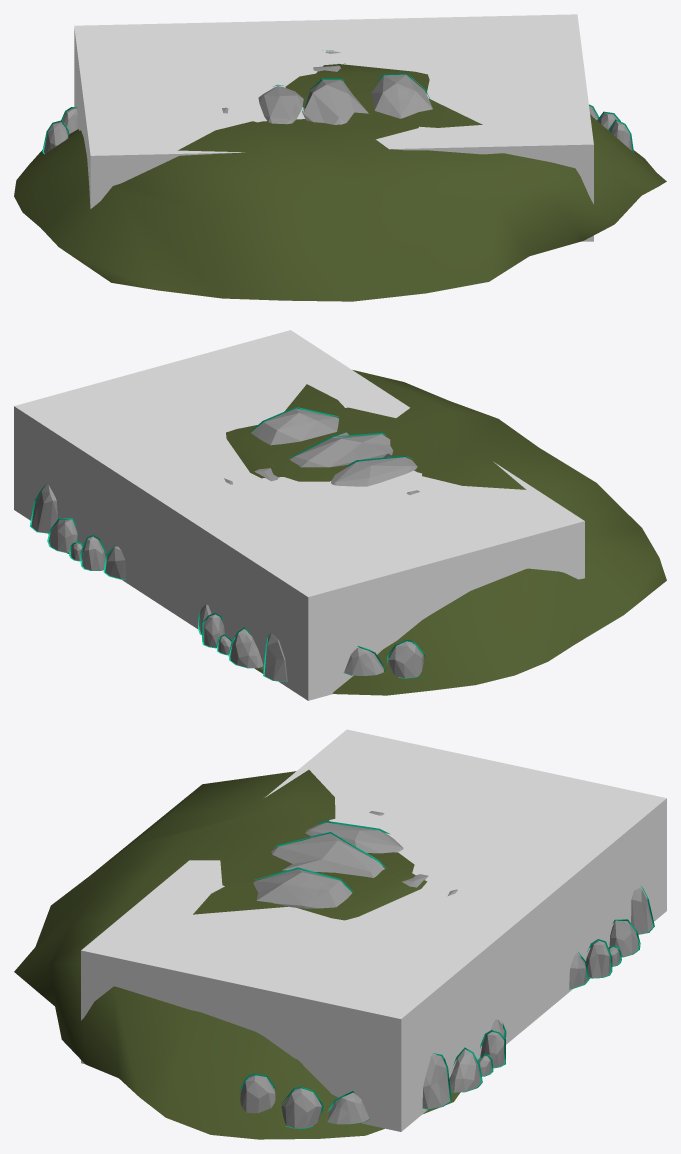
File: Dolmen1.gltf
3 renders of one model, top to bottom at view 1: azimuth 30°, elevation 25°; view 2: azimuth 150°, elevation 25°; view 3: azimuth 270°, elevation 25°, orthographic. The views are drawn at different scales.
Parts seen in each view (by area): view 1: Dolm plane, Box.001, dolmen, Outline.002; view 2: Box.001, Dolm plane, dolmen, Outline.002; view 3: Box.001, Dolm plane, dolmen, Outline.002.
Boxes of the visible parts, x1,y1,x2,y2 form: Dolm plane: (14, 64, 666, 301); Box.001: (74, 14, 593, 241); dolmen: (43, 51, 632, 153); Outline.002: (42, 50, 633, 154); Box.001: (14, 330, 584, 700); Dolm plane: (48, 370, 666, 695); dolmen: (31, 408, 423, 681); Outline.002: (30, 407, 425, 682); Box.001: (81, 729, 666, 1131); Dolm plane: (14, 770, 590, 1139); dolmen: (240, 811, 653, 1128); Outline.002: (239, 821, 654, 1128).
Size of the model in its own units: 18.5 by 3.92 by 16.33.
4 materials, 3 textured.
